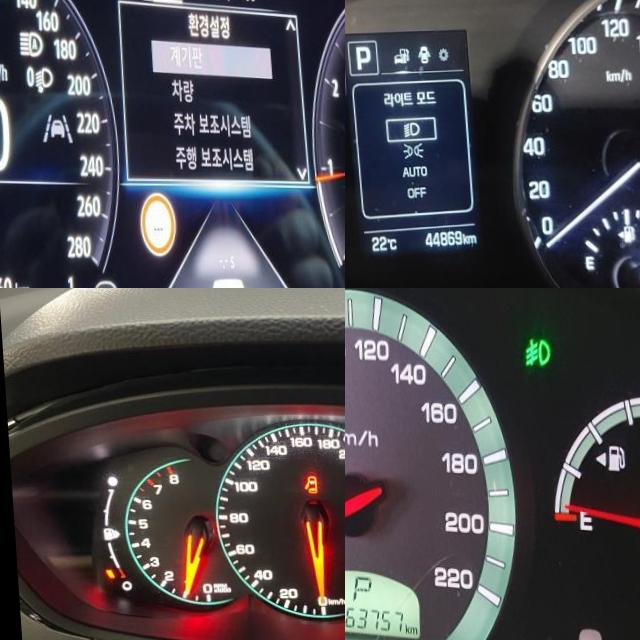Doors: (299, 476, 314, 494)
FrontFogLight: (520, 337, 549, 367)
